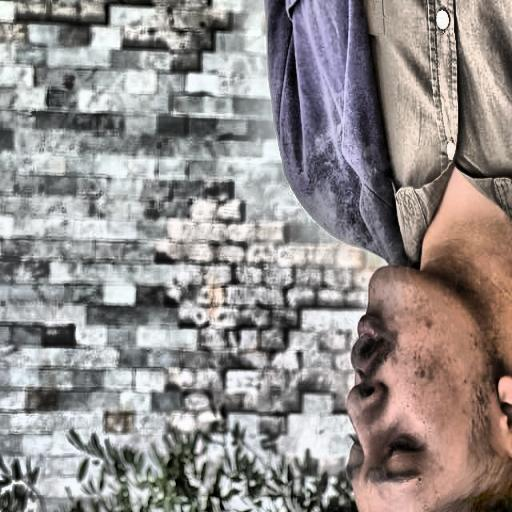Rokok: (347, 174, 512, 512)
